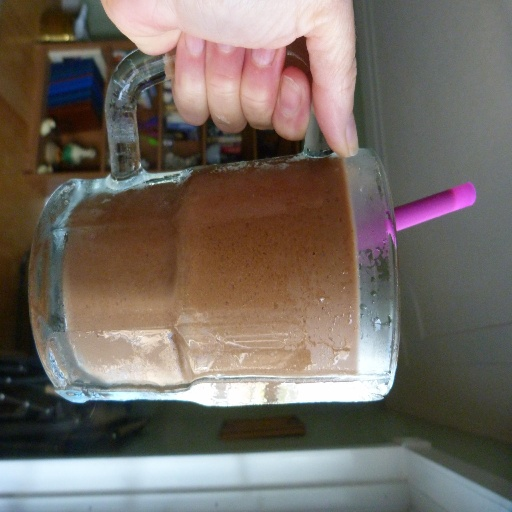hand: (100, 0, 359, 160)
